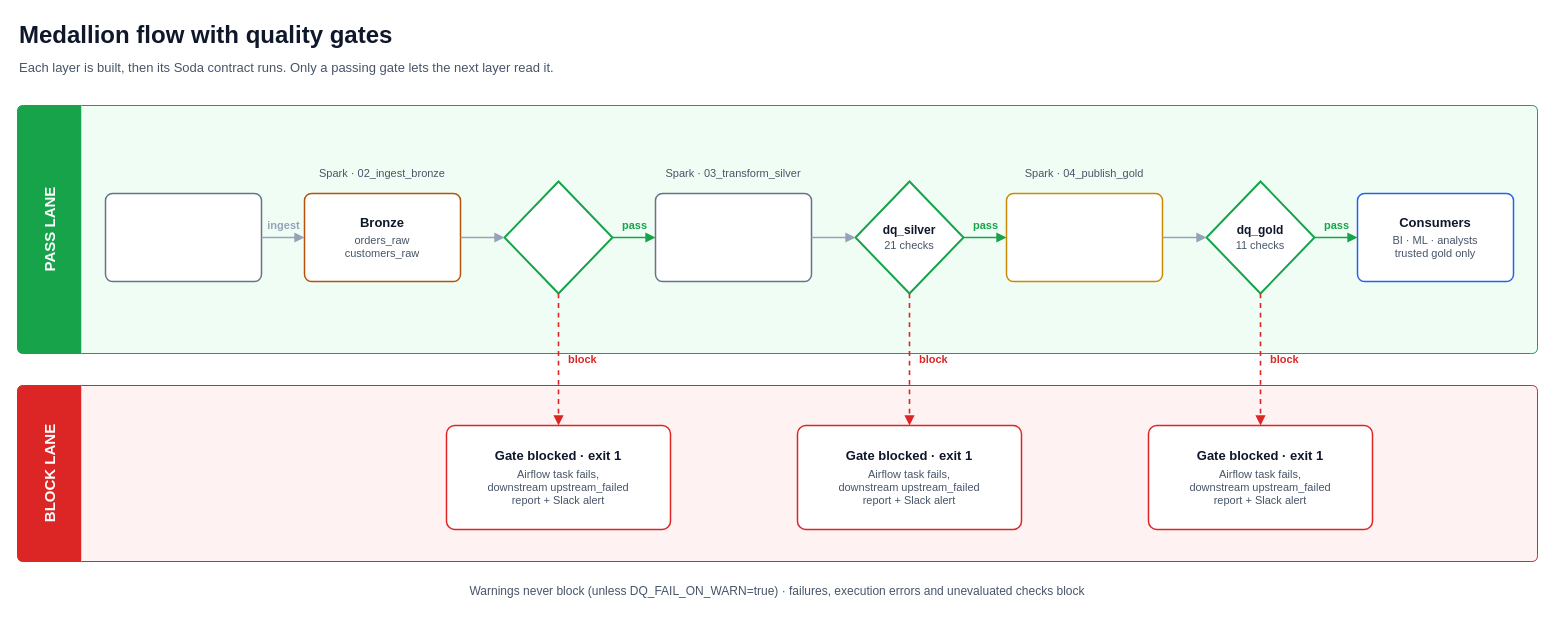
This 1555x622 diagram has some shape labels left out. Here are the shapes that lost their labels. From the top down, the centre of each, then its label:
At point 183,237: "Sources Retail CSV batches orders · customers".
At point 558,237: "dq_bronze 14 checks".
At point 733,237: "Silver orders · customers typed · deduplicated".
At point 1084,237: "Gold daily_order_metrics aggregates".
